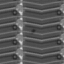dust: (30, 28, 36, 32)
